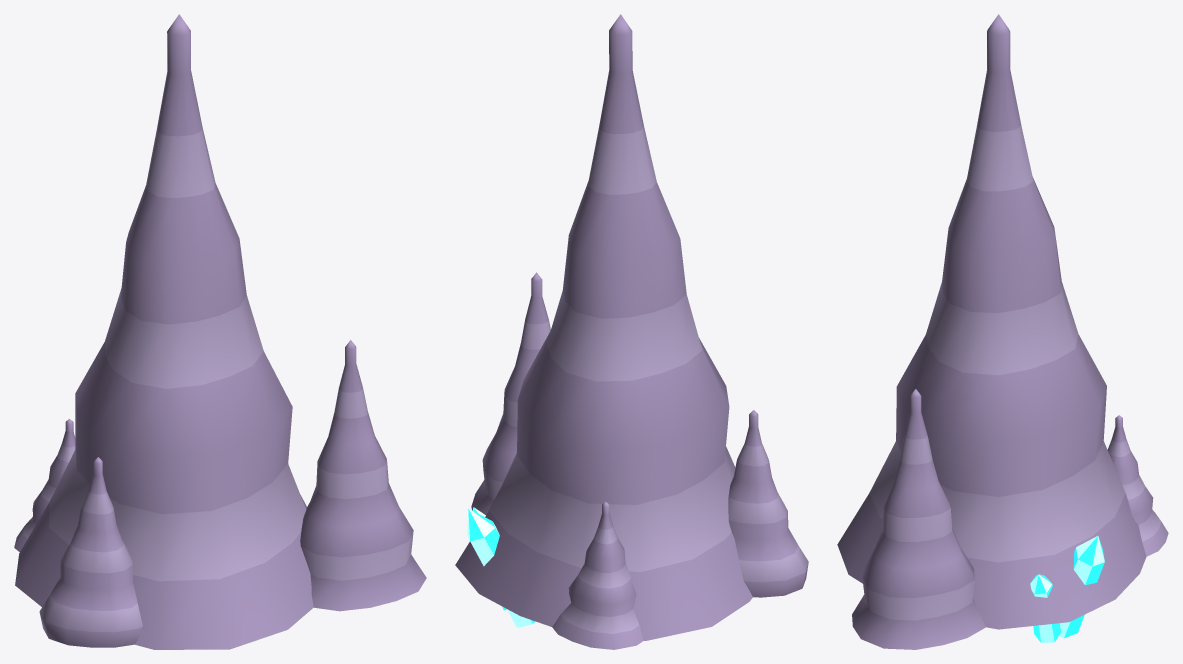
The model's file is stalagmite.glb.
The picture shows the model from 3 angles, left to right: view 1: azimuth 30°, elevation 25°; view 2: azimuth 150°, elevation 25°; view 3: azimuth 270°, elevation 25°; orthographic projection. The views are drawn at different scales.
Parts seen in each view (by area): view 1: stalagmite; view 2: stalagmite; view 3: stalagmite.
Part boxes in pixels (left/top/right/bottom): stalagmite: left=14, top=14, right=426, bottom=649; stalagmite: left=455, top=14, right=808, bottom=649; stalagmite: left=837, top=14, right=1168, bottom=649.
Size of the model in its own units: 2.6 by 4.32 by 2.2.
